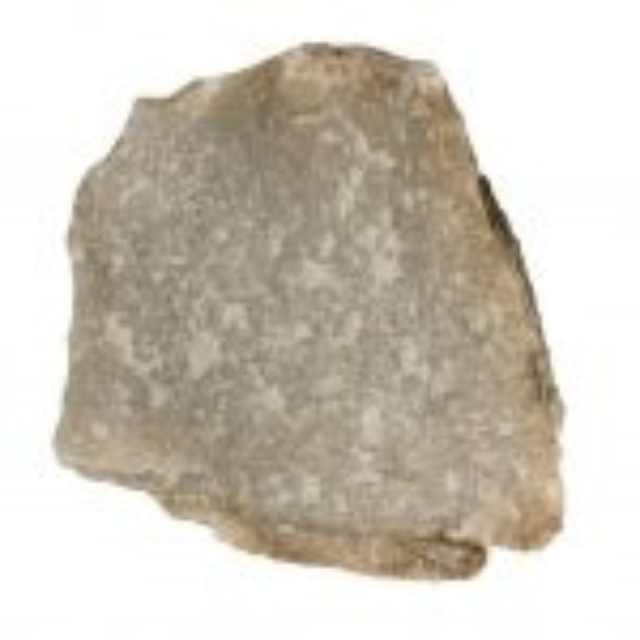obstacle: (55, 43, 559, 572)
